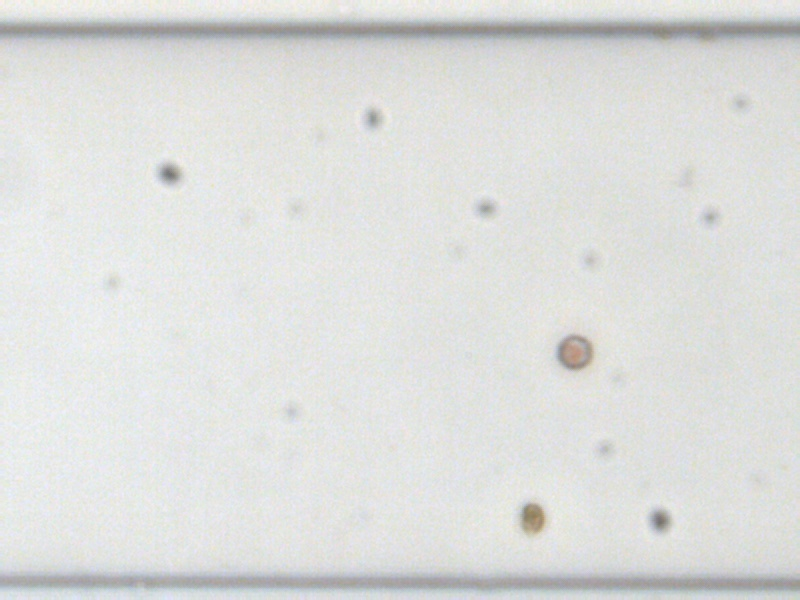Dunaliella salina: (517, 500, 545, 535)
Porphyridium: (553, 331, 594, 371)
